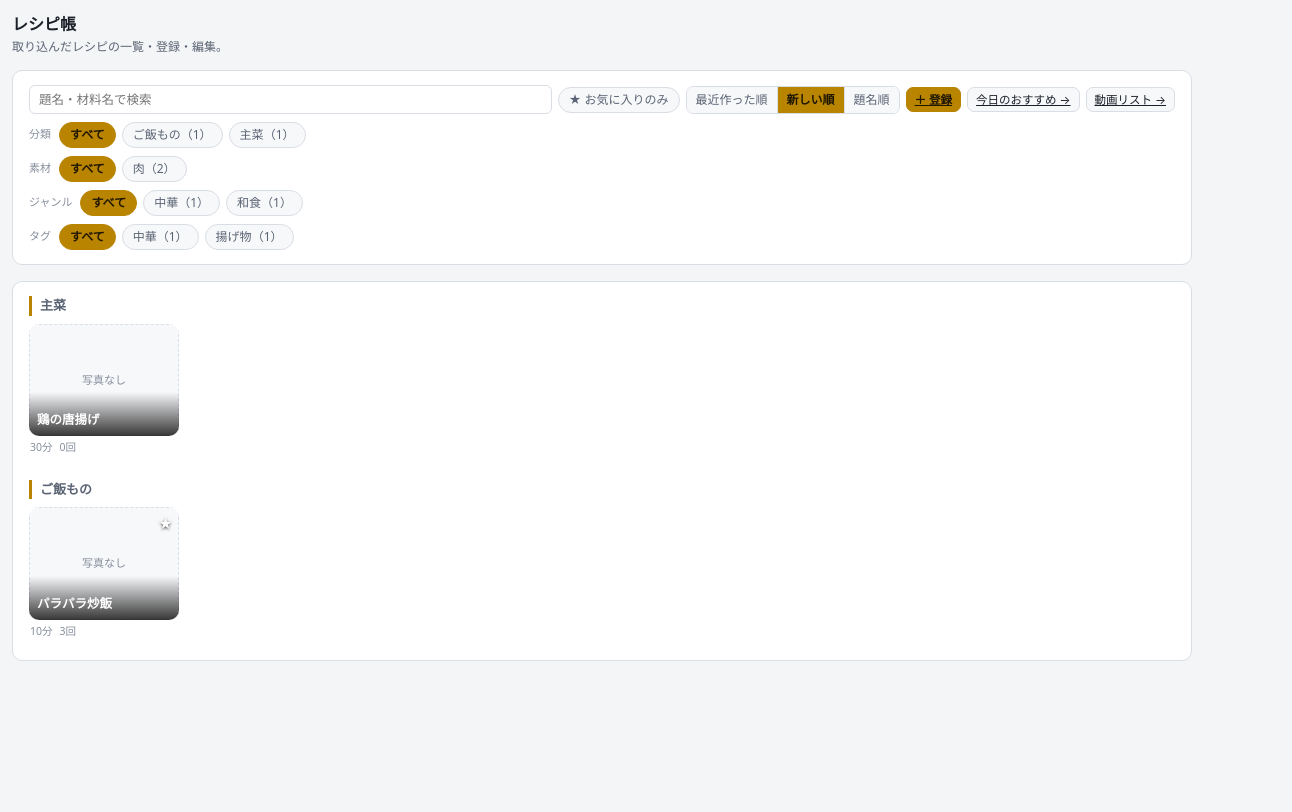
kitchen recipes — 一覧（ADR-015 D4・§6 D4'・D9） › 分類の chip で絞ると一覧が1つのグリッドになり、絞った分類だけが残る
Check: the text "パラパラ炒飯" is shown, box x1=29 y1=576 x2=179 y2=620
Click the button "主菜（1）": [267, 135] box x1=229 y1=122 x2=306 y2=148
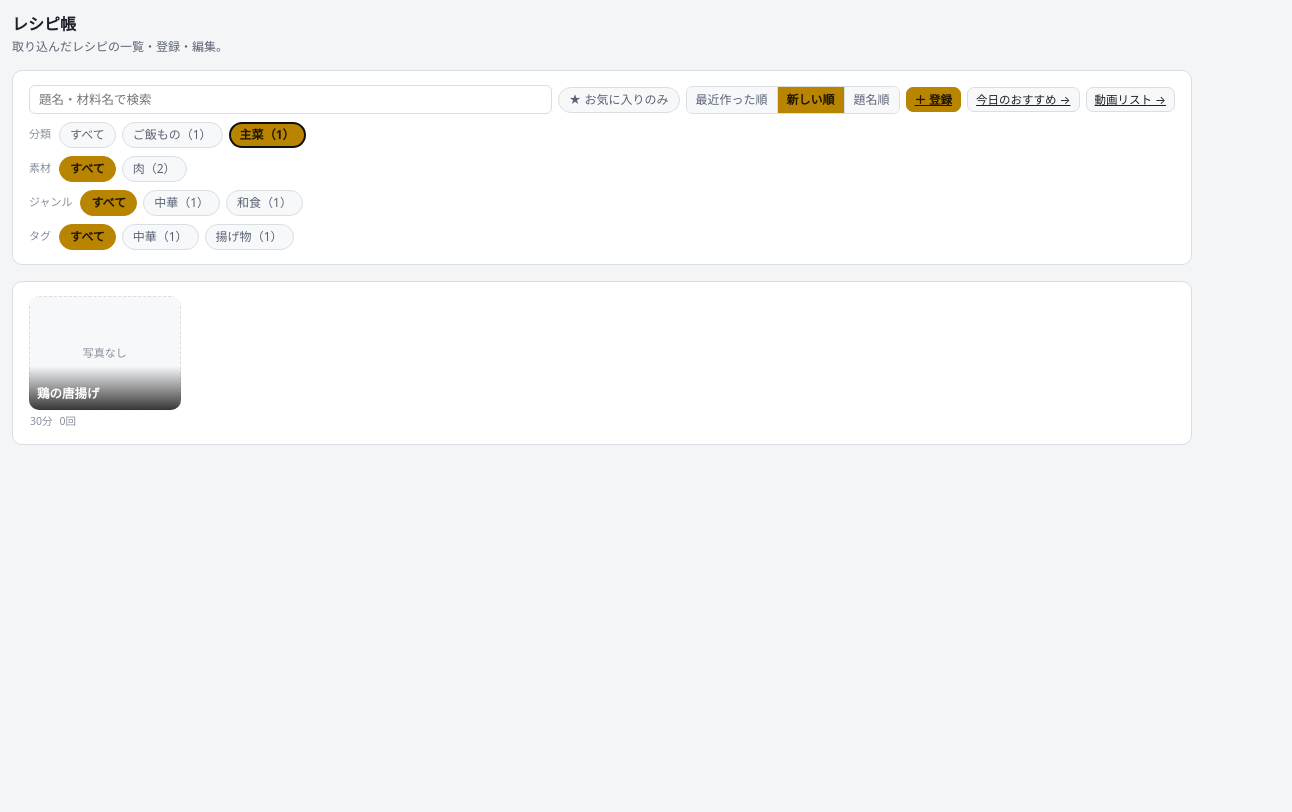
Check: the link "パラパラ炒飯" is gone
Check: the element with class "recipe-grid" is shown, box x1=29 y1=296 x2=181 y2=428
Check: the element with class "recipe-category-scroll" is gone
